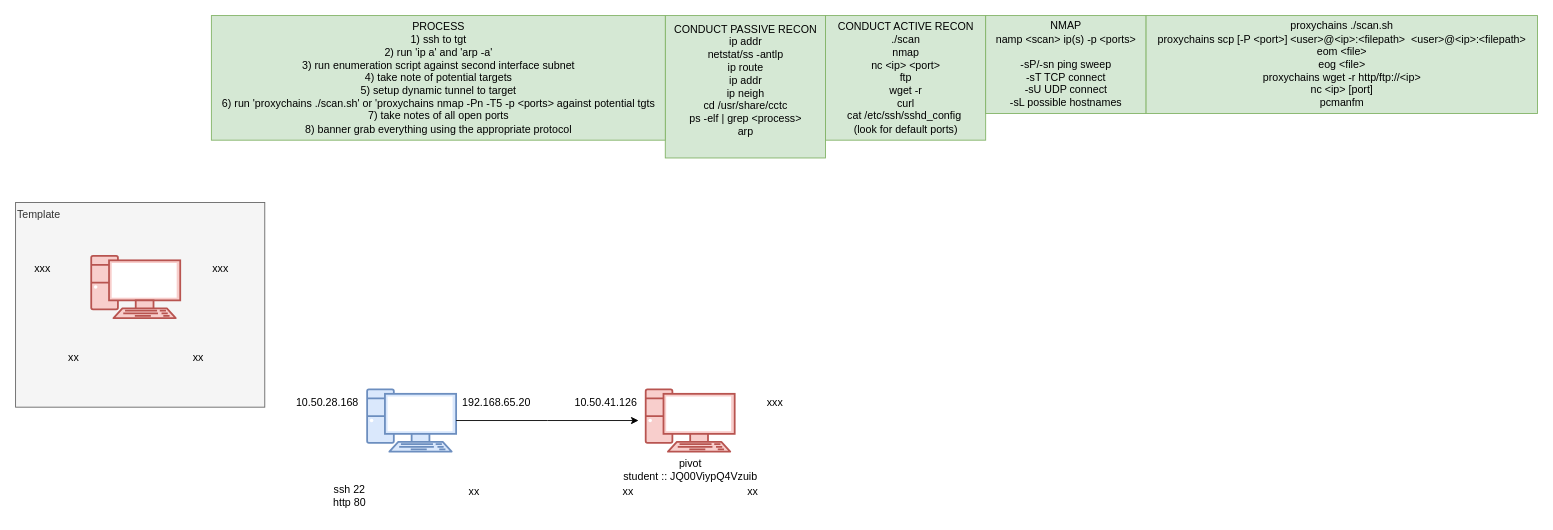
The diagram is 1553 pixels wide and 530 high, and some of its shapes have lost their labels. The shapes that lost their labels are listed below. From the top down, each one's box as (x1, y1, x2, y2) in pixels, then its label:
(90, 255, 181, 319): box_name user :: pass
(366, 388, 457, 452): lin-ops student :: password
